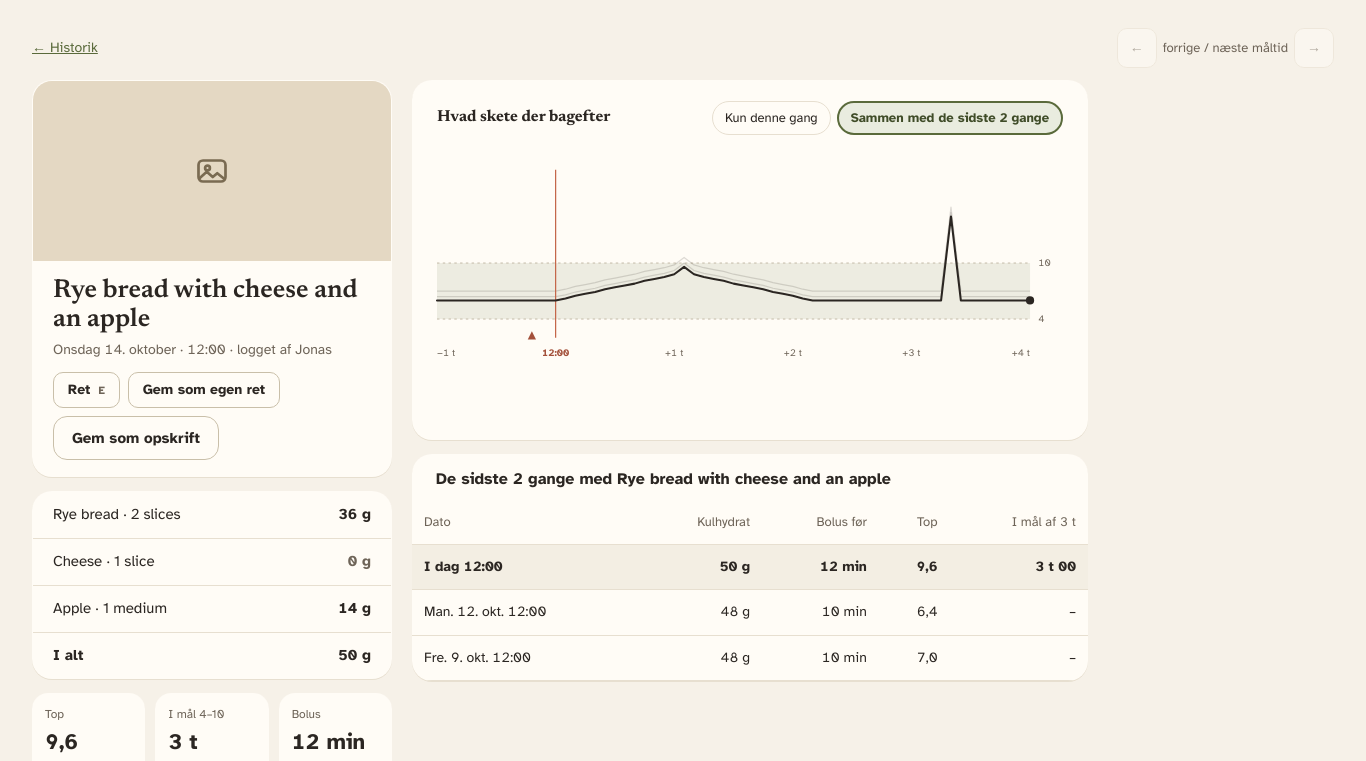
Test: edit and delete inside meal detail › enumerates every field and keeps invalid carbs from saving
The image size is (1366, 761).
Click the button "Ret E". click: [86, 390]
box: [53, 372, 120, 408]
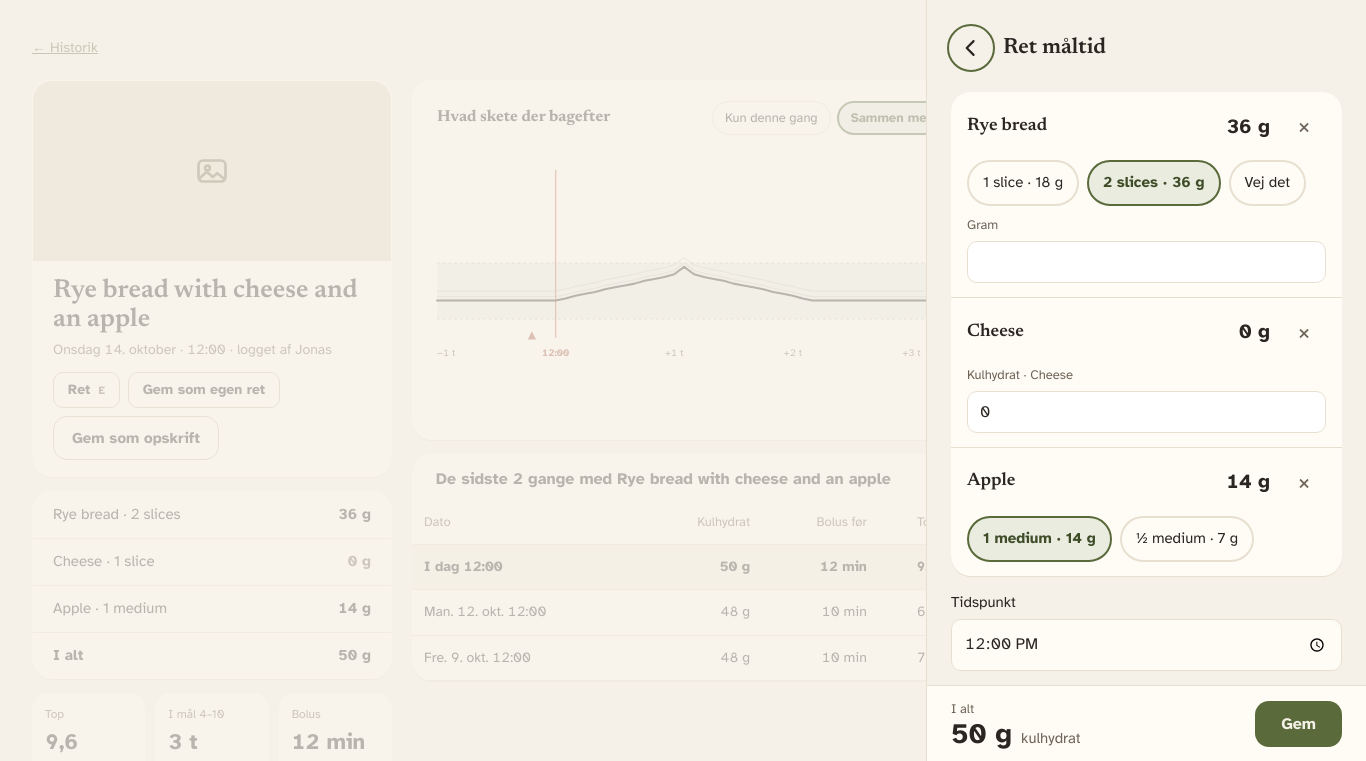
Clear the number field labelled "Kulhydrat · Cheese". click: [1146, 412]
box: [967, 391, 1326, 433]
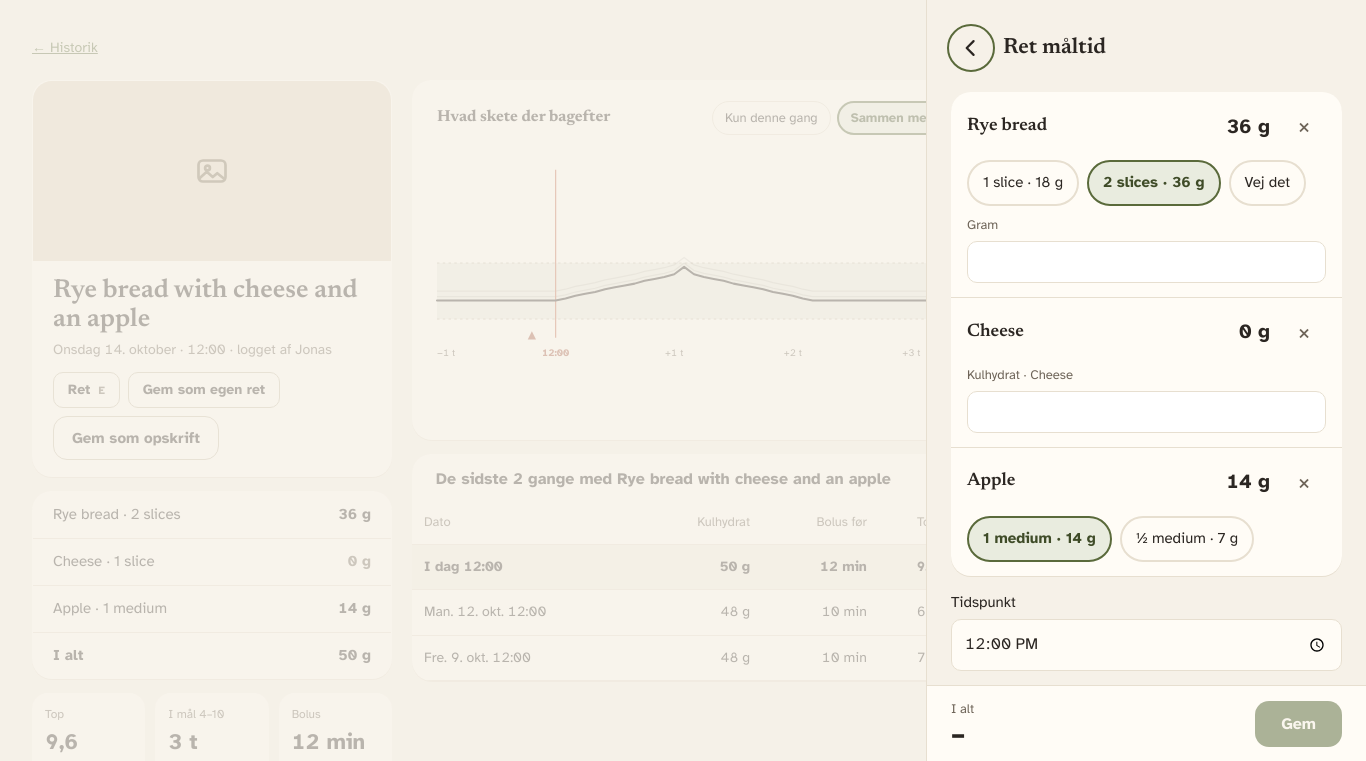
Expected: the button "Gem" is disabled, [1255, 701, 1342, 747]
